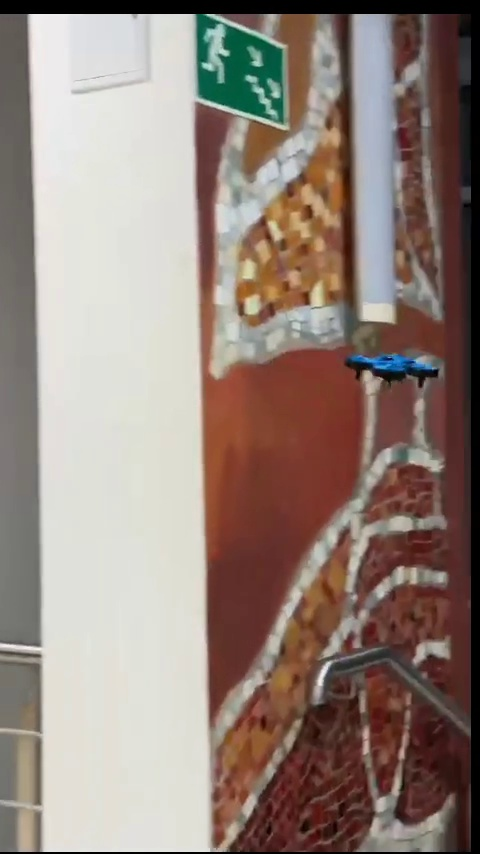drone: (351, 354, 442, 390)
